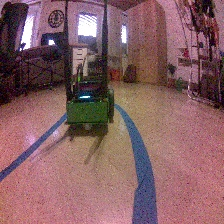rob: (65, 75, 114, 130)
